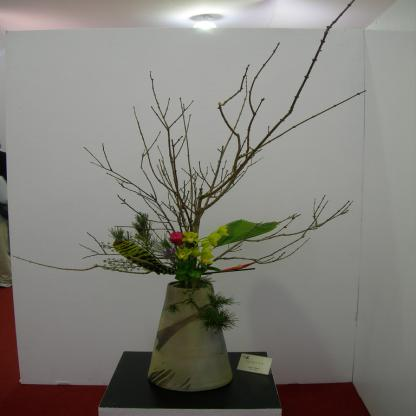vase: (146, 278, 232, 392)
